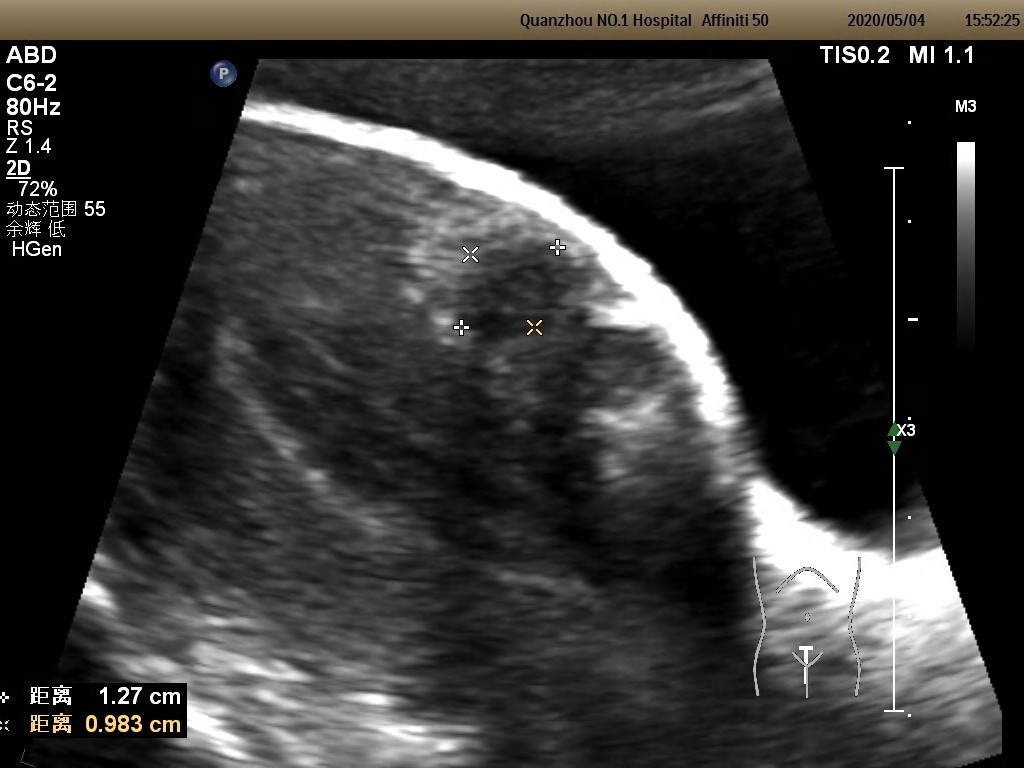肌瘤: (458, 245, 563, 339)
